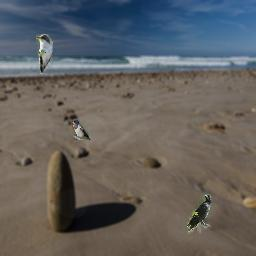Crow: (187, 194, 211, 234)
Cuckoo: (36, 34, 53, 74)
Swallow: (71, 119, 91, 140)
